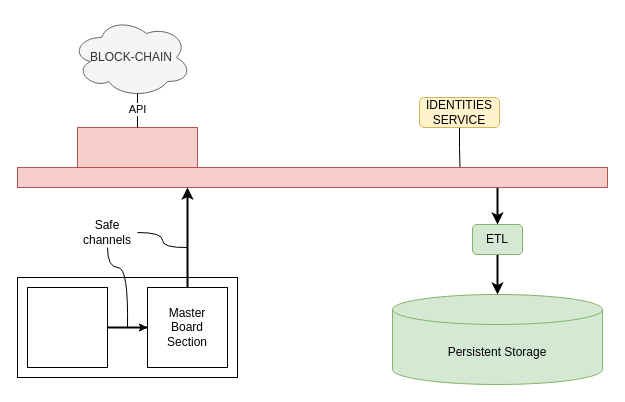
Some shapes in this 625 by 402 pixel diagram are drawn without their labels. Here are the shapes that lost their labels. From the top down, the box of each, then its label:
(76, 126, 198, 168): BLOCKCHAIN PLUGIN
(16, 166, 608, 188): MQTT BACKBONE
(26, 286, 108, 368): Sensors Board Section
